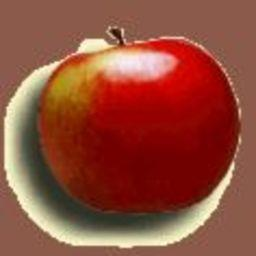apple: (32, 35, 238, 213)
